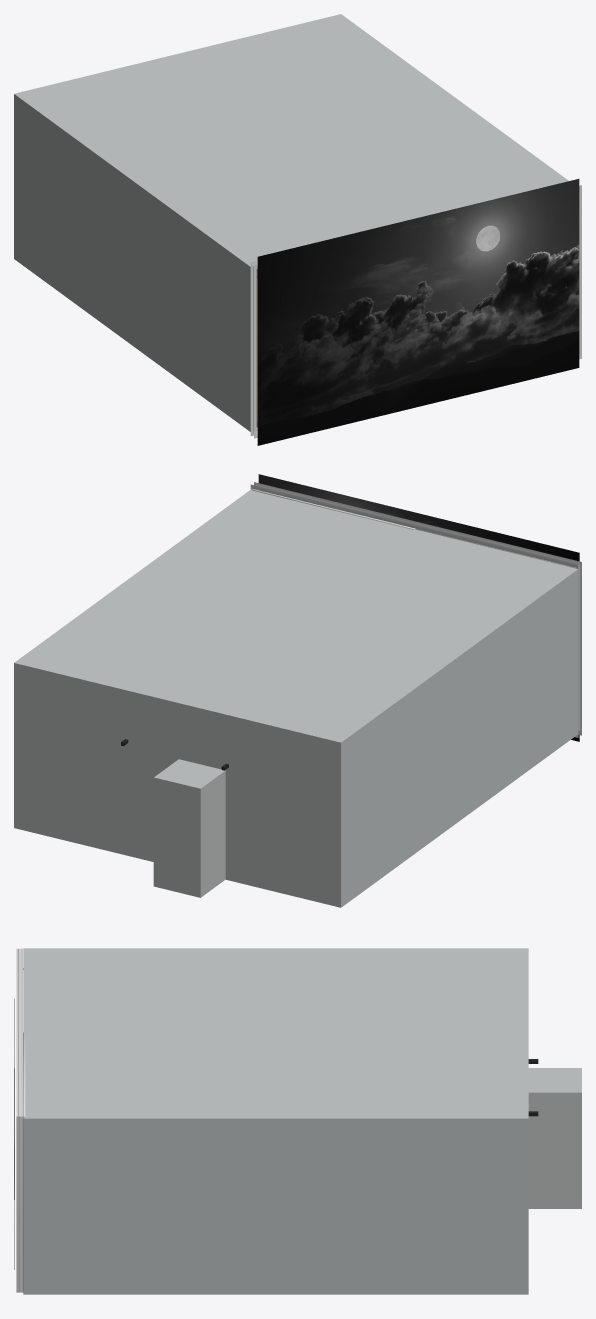
Rendered from room.glb.
3 views of the same model, one above another, from view 1: azimuth 30°, elevation 25°; view 2: azimuth 150°, elevation 25°; view 3: azimuth 270°, elevation 25° (orthographic). The views are drawn at different scales.
Visible parts, largest first — view 1: Object_4, 22945867bbcc19eb01a554d5df97885d (1), Object_7, Wndow Frame; view 2: Object_7, Object_4, Wndow Frame, 22945867bbcc19eb01a554d5df97885d (1); view 3: Object_7, Object_4, Wndow Frame.
Boxes of the visible parts, x1,y1,x2,y2 form: Object_4: (14,14,568,266); 22945867bbcc19eb01a554d5df97885d (1): (257,179,579,445); Object_7: (14,94,250,431); Wndow Frame: (250,185,581,438); Object_7: (14,569,578,907); Object_4: (14,489,577,742); Wndow Frame: (250,482,581,737); 22945867bbcc19eb01a554d5df97885d (1): (258,474,579,741); Object_7: (23,1068,581,1294); Object_4: (23,948,528,1118); Wndow Frame: (16,948,22,1292).
Bounding box in the file's own units: 5.8 × 3.19 × 8.15.
Materials: 11 (7 with a texture image).
